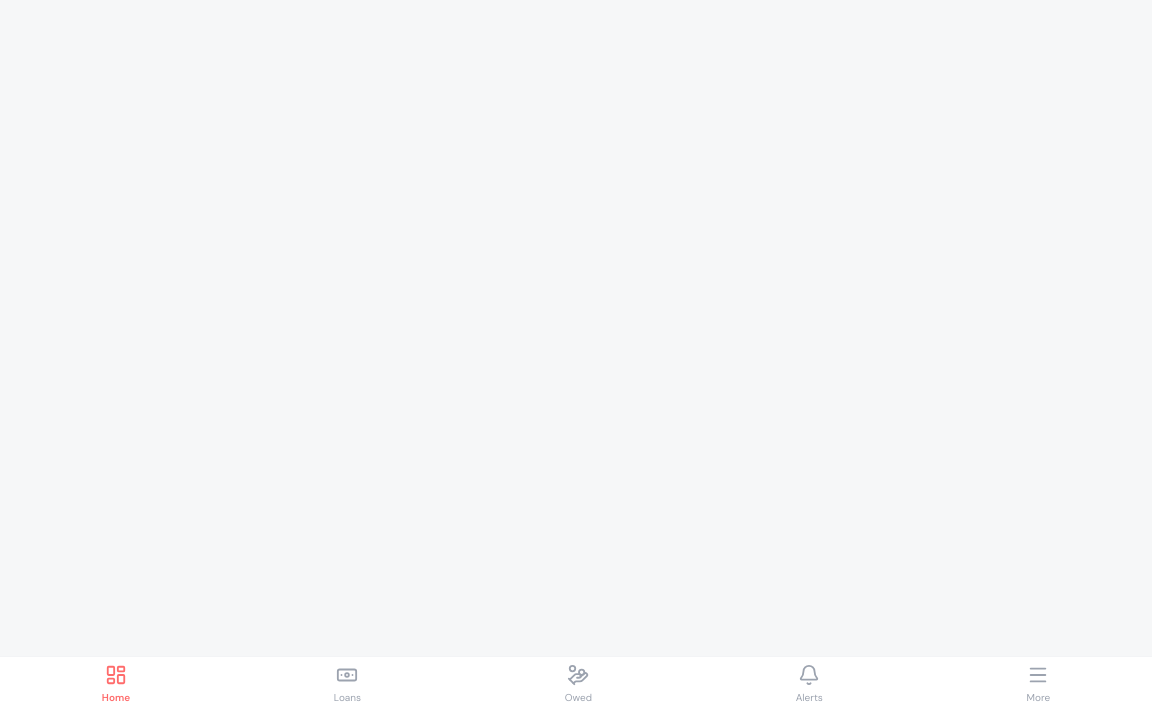
Test case: Navigation shell components › mobile bottom nav exposes overflow actions and admin-only users link
What coordinates should you click on to do the following:
click the button "More"
I would click on:
 (1038, 684)
Its box is x1=1027 y1=664 x2=1050 y2=705.
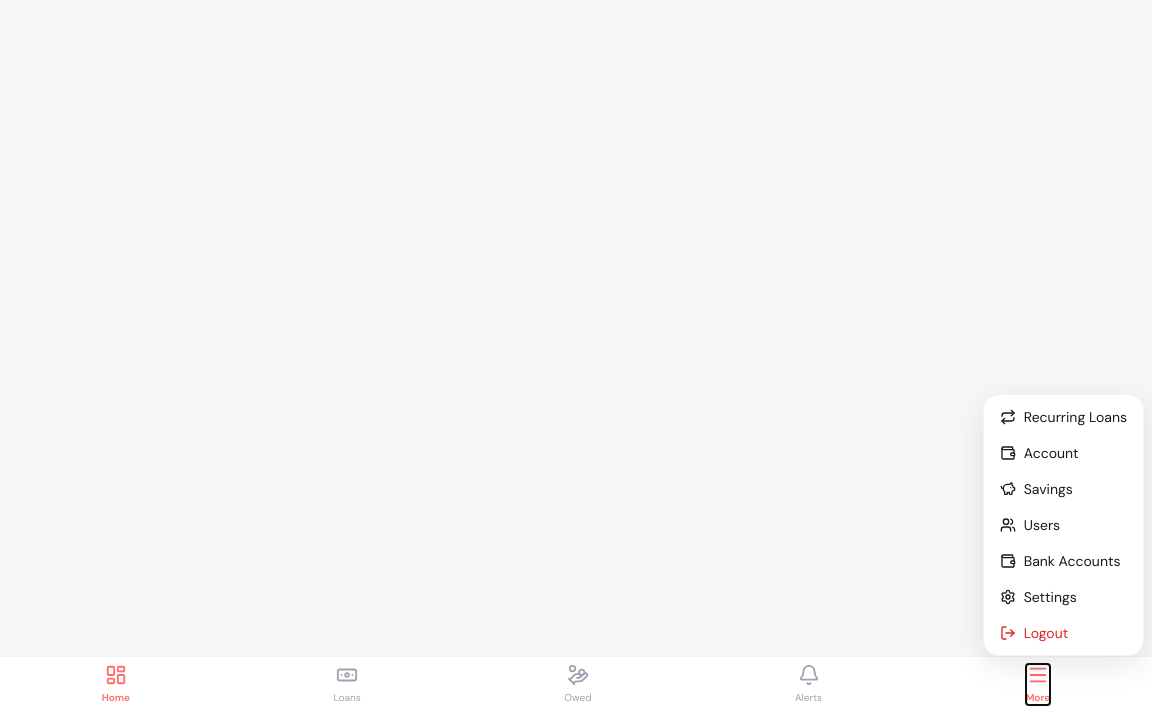
Expected: the element with test id "more-menu" is shown, x1=983 y1=394 x2=1144 y2=656
Expected: the link "Users" is shown, x1=1000 y1=516 x2=1060 y2=534
